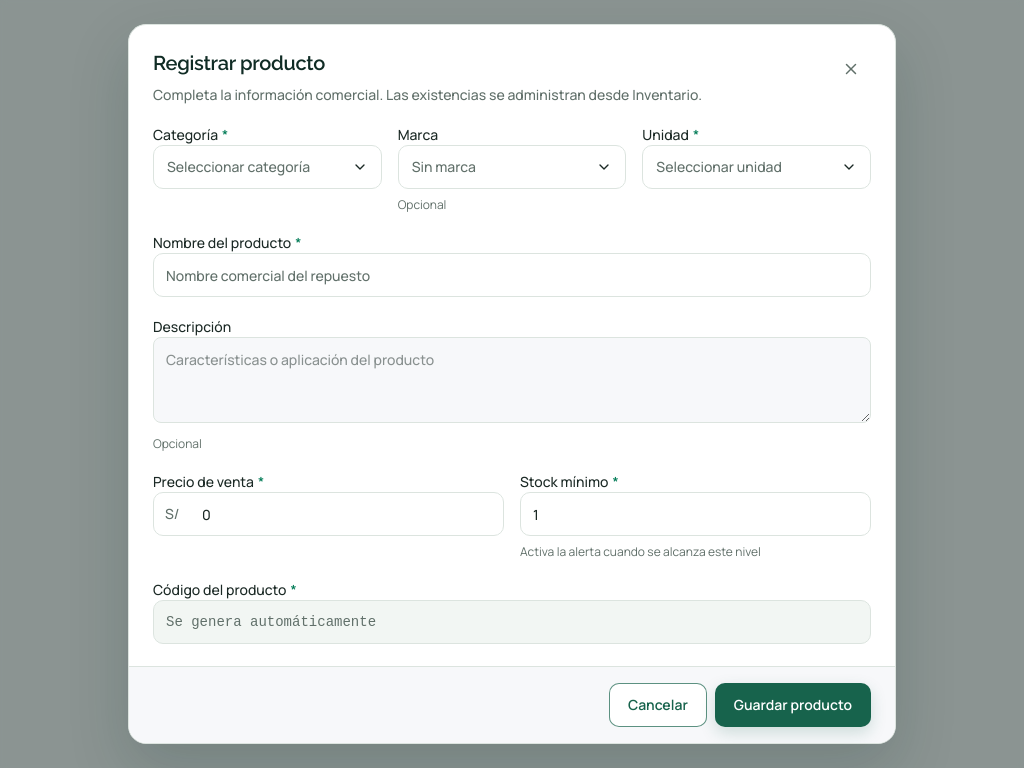
Formulario de productos › genera un código compacto de solo lectura
Type "Filtro de aceite CA 2022" into the field labelled "Nombre del producto*".
click(512, 275); type("Filtro de aceite CA 2022")  # box [154,254,870,296]
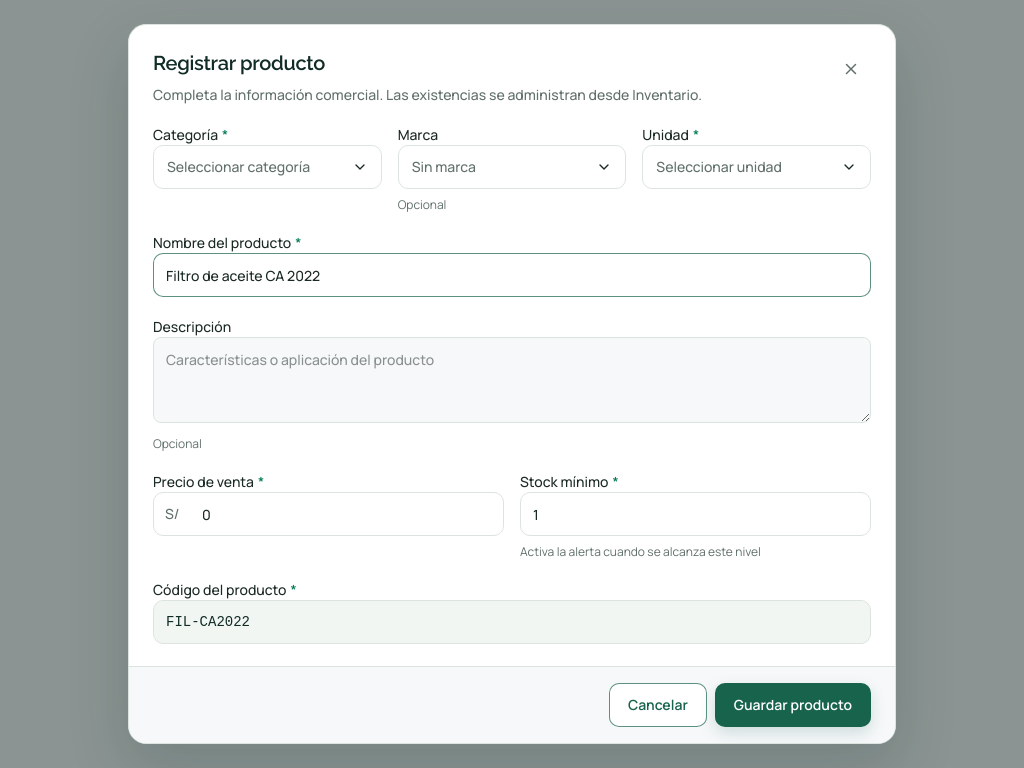
Now the field labelled "Código del producto* Código automático disponible." holds "FIL-CA2022", box [154,601,870,643]
